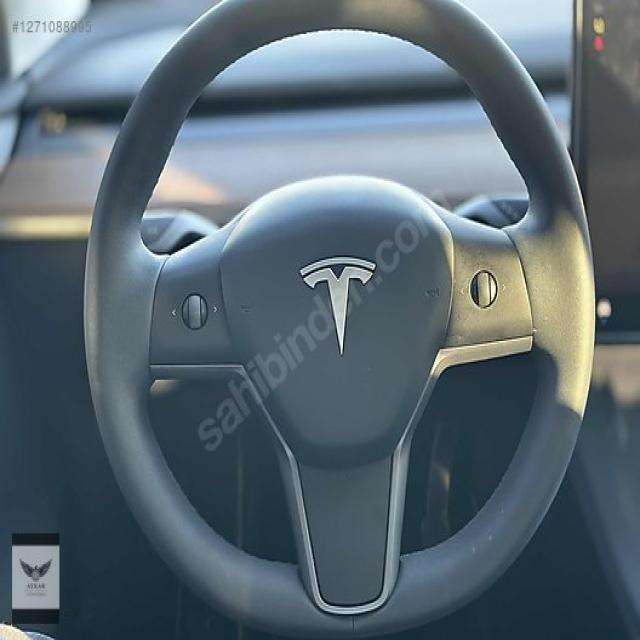tesla: (297, 251, 377, 361)
